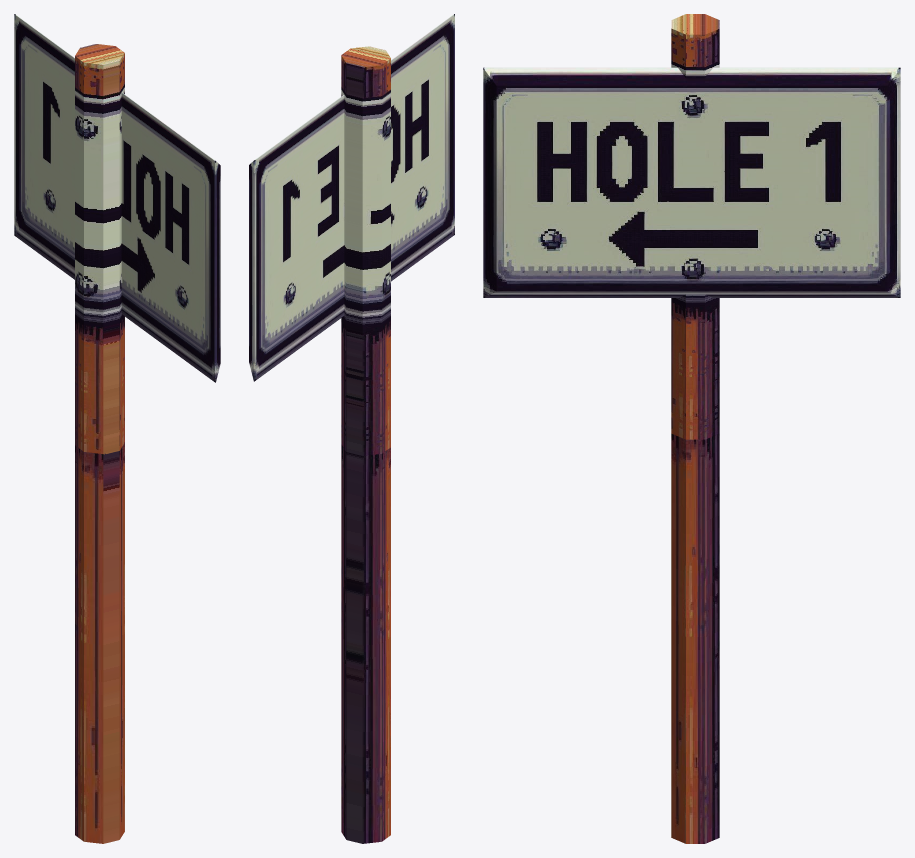
The model's file is Hole1sign.glb.
3 renders of one model, left to right at view 1: azimuth 30°, elevation 25°; view 2: azimuth 150°, elevation 25°; view 3: azimuth 270°, elevation 25°, orthographic. The views are drawn at different scales.
Parts seen in each view (by area): view 1: OIG4 (12), OIG4 (12).001, OIG4 (12).002; view 2: OIG4 (12), OIG4 (12).001, OIG4 (12).002; view 3: OIG4 (12), OIG4 (12).002, OIG4 (12).001.
Part boxes in pixels (<box>): OIG4 (12): <box>14,14,220,382</box>; OIG4 (12).001: <box>75,44,124,454</box>; OIG4 (12).002: <box>75,442,124,843</box>; OIG4 (12): <box>249,14,454,381</box>; OIG4 (12).001: <box>341,46,390,455</box>; OIG4 (12).002: <box>341,444,390,843</box>; OIG4 (12): <box>483,67,900,297</box>; OIG4 (12).002: <box>671,433,719,843</box>; OIG4 (12).001: <box>671,14,719,439</box>.
Bounding box in the file's own units: 0.0991 × 1.62 × 0.7592.
1 material, 1 textured.
